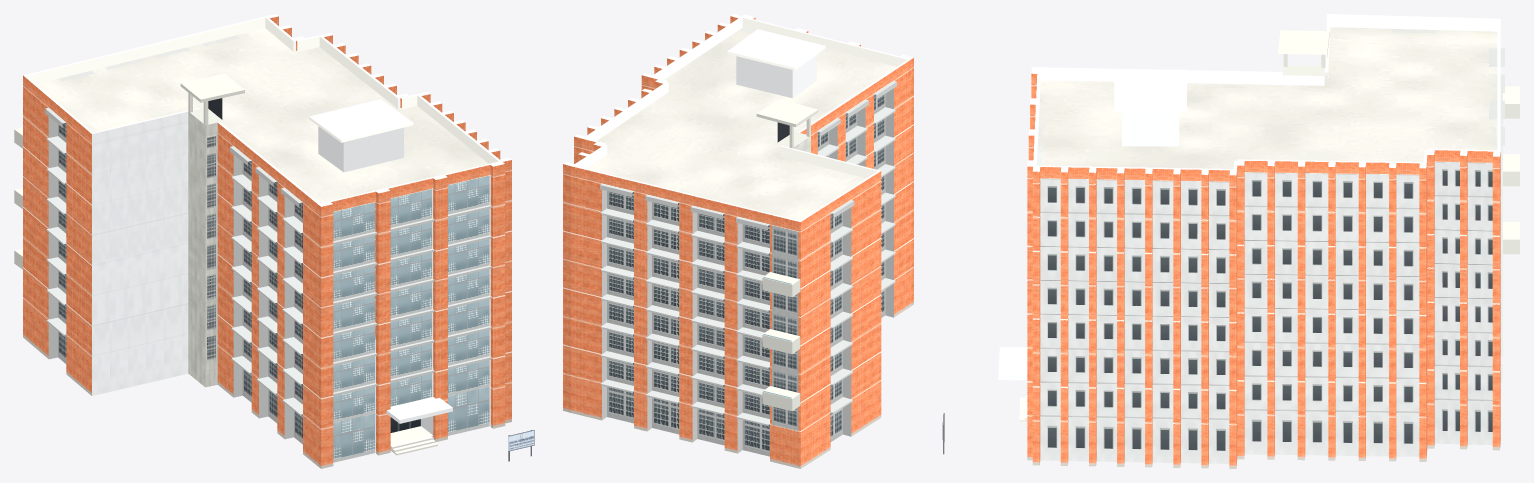
Rendered from ibsps.glb.
3 renders of one model, left to right at view 1: azimuth 30°, elevation 25°; view 2: azimuth 150°, elevation 25°; view 3: azimuth 270°, elevation 25°, orthographic. The views are drawn at different scales.
Visible parts, largest first — view 1: IBSPS; view 2: IBSPS; view 3: IBSPS.
Part boxes in pixels (x1=…): IBSPS: x1=14, y1=14, x2=534, y2=468; IBSPS: x1=563, y1=14, x2=913, y2=468; IBSPS: x1=942, y1=14, x2=1519, y2=468.
Size of the model in its own units: 29.51 by 27.7 by 44.6.
1 material, 1 textured.
